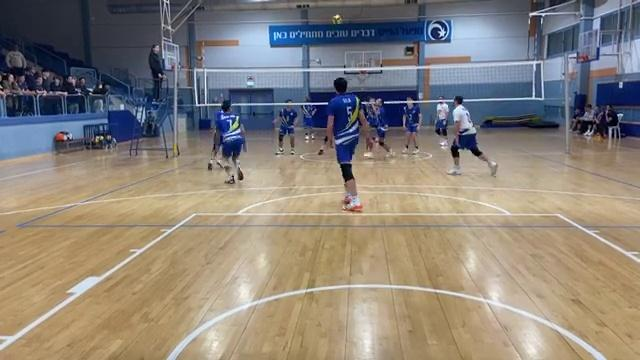ball: (332, 12, 342, 27)
